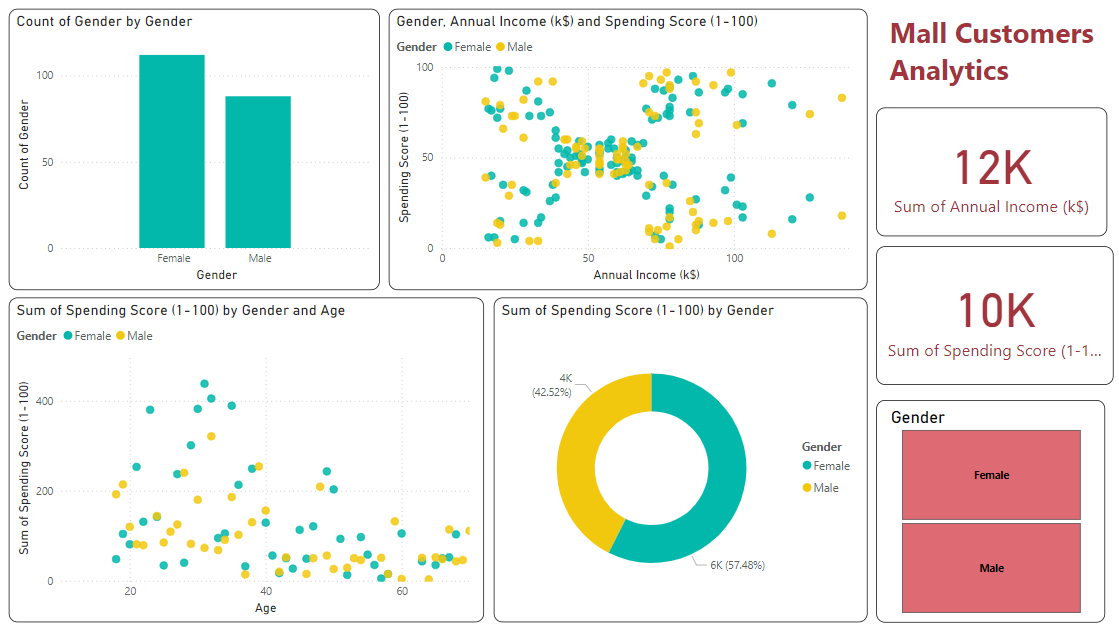

Layout of this report page (visuals, bound fields, positions):
{"tool":"powerbi","page":{"name":"Page 1","canvas":[1280,720],"ordinal":0},"visuals":[{"type":"columnChart","fields":{"Category":["Mall_Customers.Gender"],"Y":["CountNonNull(Mall_Customers.Gender)"]},"box":[10,10,424.3,321.4],"z":0},{"type":"scatterChart","fields":{"X":["Mall_Customers.Annual Income (k$)"],"Y":["Mall_Customers.Spending Score (1-100)"],"Series":["Mall_Customers.Gender"]},"box":[444.3,10,547.1,321.4],"z":1000},{"type":"donutChart","fields":{"Category":["Mall_Customers.Gender"],"Y":["Sum(Mall_Customers.Spending Score (1-100))"]},"box":[564.3,340,427.1,371.4],"z":2000},{"type":"scatterChart","fields":{"Y":["Sum(Mall_Customers.Spending Score (1-100))"],"X":["Mall_Customers.Age"],"Series":["Mall_Customers.Gender"]},"box":[10,340,542.9,371.4],"z":3000},{"type":"textbox","box":[1011.4,10,258.6,141.4],"z":4000},{"type":"slicer","fields":{"Values":["Mall_Customers.Gender"]},"box":[1001.4,457.1,261.4,254.3],"z":5000},{"type":"card","fields":{"Values":["Sum(Mall_Customers.Annual Income (k$))"]},"box":[1001.4,122.9,264.3,147.1],"z":6000},{"type":"card","fields":{"Values":["Sum(Mall_Customers.Spending Score (1-100))"]},"box":[1001.4,281.4,271.4,158.6],"z":7000}]}

Visuals, with their boxes in screenshot pixels (x1, y1, x2, y2), scaled from the page's 1280x720 canvas onto the 1119x630 screenshot:
columnChart - Mall_Customers.Gender x CountNonNull(Mall_Customers.Gender): bbox=[9, 9, 380, 290]
scatterChart - Mall_Customers.Annual Income (k$) x Mall_Customers.Spending Score (1-100): bbox=[388, 9, 867, 290]
donutChart - Mall_Customers.Gender x Sum(Mall_Customers.Spending Score (1-100)): bbox=[493, 298, 867, 622]
scatterChart - Sum(Mall_Customers.Spending Score (1-100)) x Mall_Customers.Age: bbox=[9, 298, 483, 622]
textbox: bbox=[884, 9, 1110, 132]
slicer - Mall_Customers.Gender: bbox=[875, 400, 1104, 622]
card - Sum(Mall_Customers.Annual Income (k$)): bbox=[875, 108, 1106, 236]
card - Sum(Mall_Customers.Spending Score (1-100)): bbox=[875, 246, 1113, 385]
